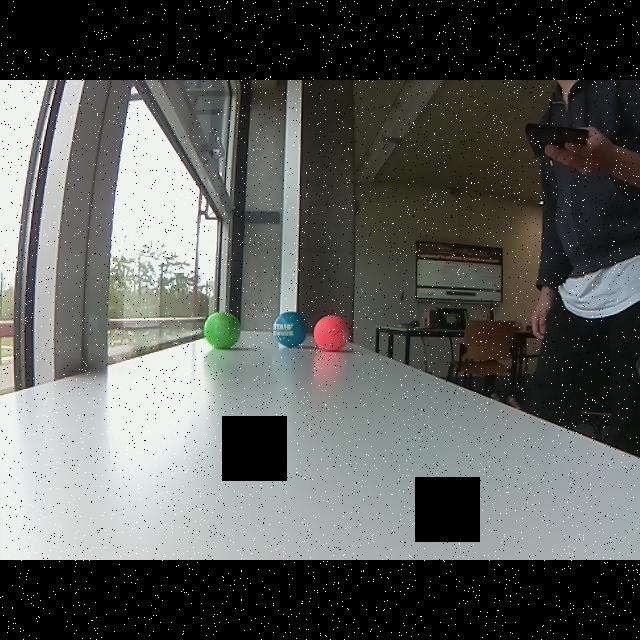ball: (309, 310, 352, 354), (202, 309, 244, 353)
